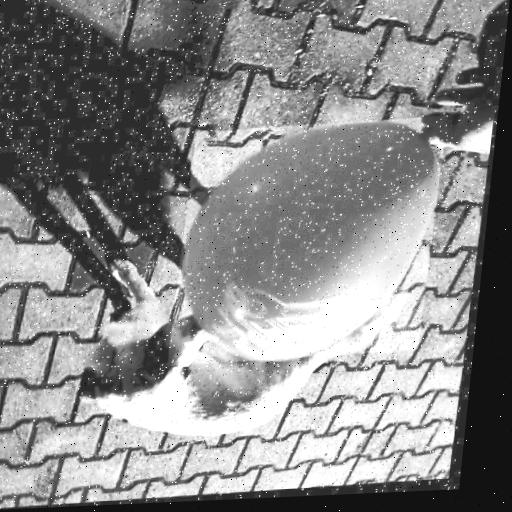balloon: (173, 117, 451, 367)
